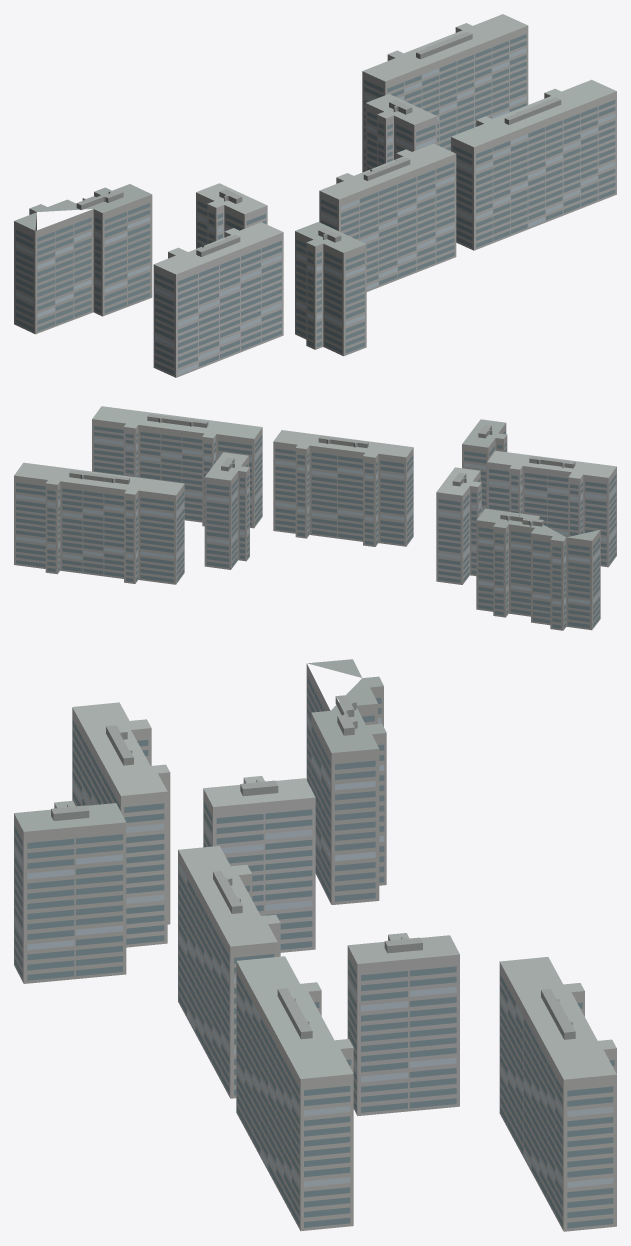
The model's file is apt-a13980014.glb.
The picture shows the model from 3 angles, top to bottom: view 1: azimuth 30°, elevation 25°; view 2: azimuth 150°, elevation 25°; view 3: azimuth 270°, elevation 25°; orthographic projection. The views are drawn at different scales.
Parts seen in each view (by area): view 1: apt-a13980014; view 2: apt-a13980014; view 3: apt-a13980014.
Part boxes in pixels (x1,y1,x2,y2): apt-a13980014: (14, 14, 616, 377); apt-a13980014: (14, 406, 616, 630); apt-a13980014: (14, 659, 616, 1231).
Bounding box in the file's own units: 227 × 40 × 137.
